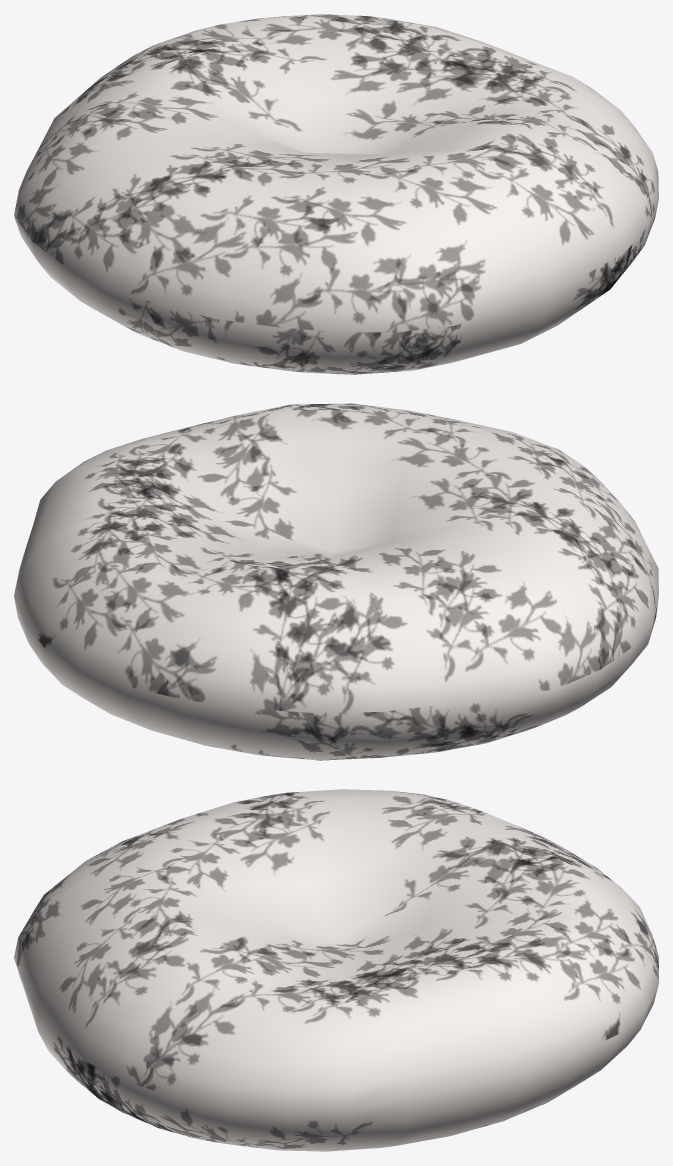
The model's file is pillow02.fbx.
The picture shows the model from 3 angles, top to bottom: view 1: azimuth 30°, elevation 25°; view 2: azimuth 150°, elevation 25°; view 3: azimuth 270°, elevation 25°; orthographic projection. The views are drawn at different scales.
Parts seen in each view (by area): view 1: pCube5; view 2: pCube5; view 3: pCube5.
Part boxes in pixels (x1,y1,x2,y2): pCube5: (14,14,658,374); pCube5: (14,403,658,760); pCube5: (14,789,658,1151).
Size of the model in its own units: 34.39 by 11.23 by 33.73.
Materials: 1 (1 with a texture image).
